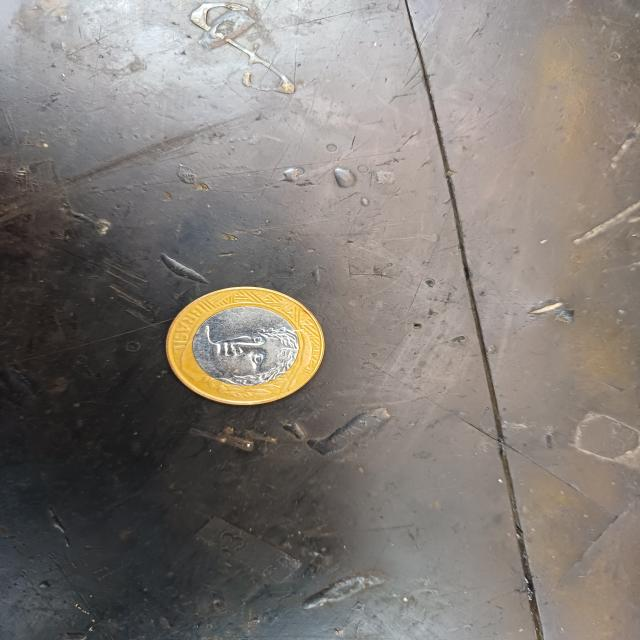1 real: (160, 282, 328, 412)
